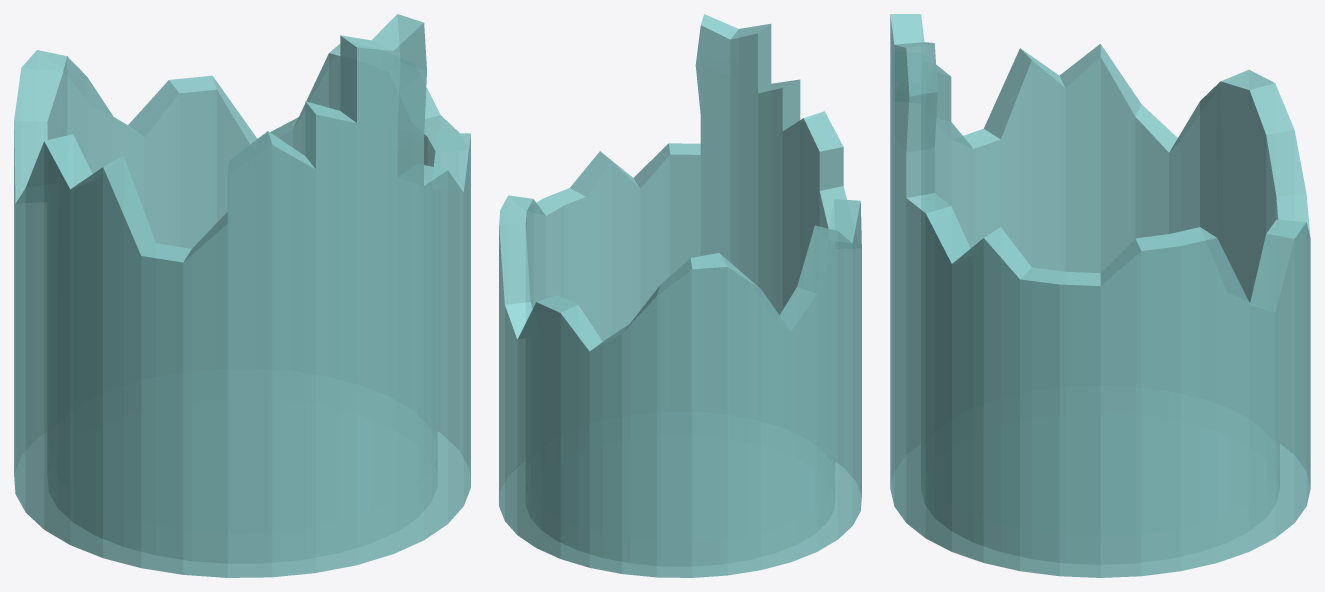
Rendered from Broken glass.fbx.
The picture shows the model from 3 angles, left to right: view 1: azimuth 30°, elevation 25°; view 2: azimuth 150°, elevation 25°; view 3: azimuth 270°, elevation 25°; orthographic projection. The views are drawn at different scales.
Visible parts, largest first — view 1: Cylinder; view 2: Cylinder; view 3: Cylinder.
Boxes of the visible parts, box(x1,y1,x2,y2) form: Cylinder: box(14, 14, 470, 577); Cylinder: box(499, 14, 861, 577); Cylinder: box(890, 14, 1310, 577).
Bounding box in the file's own units: 187 × 234 × 187.
